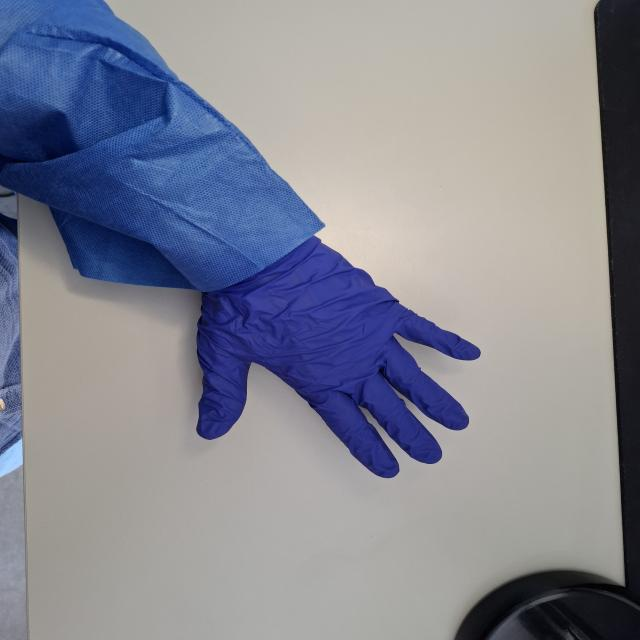glove_on: (186, 231, 487, 481)
